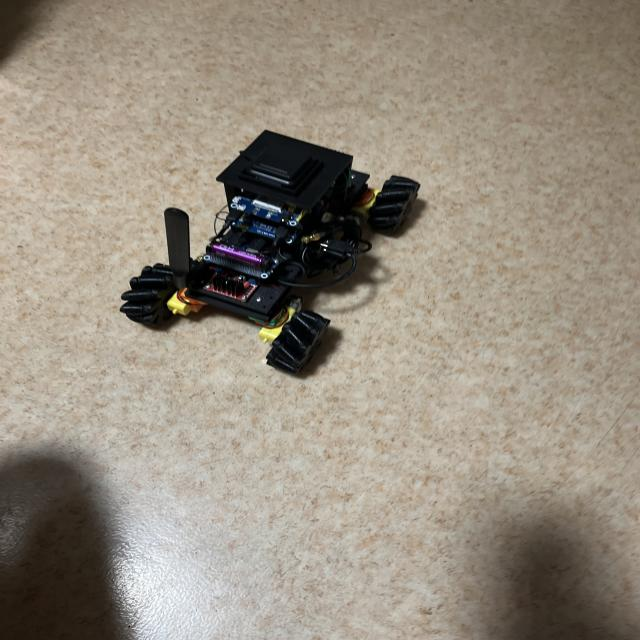robot: (120, 130, 420, 372)
